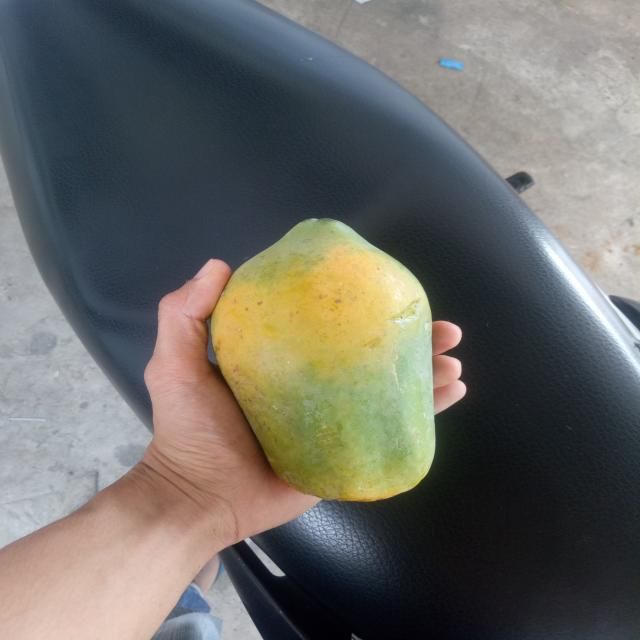Pepaya rippen: (200, 205, 456, 513)
